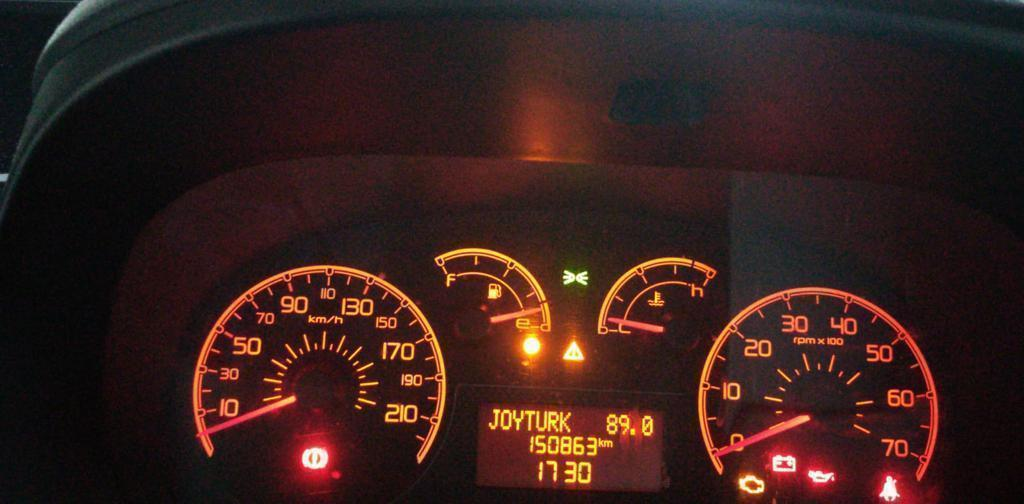,: (629, 427, 635, 436)
0: (577, 461, 592, 484), (640, 414, 654, 437), (547, 434, 559, 455)
1: (535, 459, 543, 482), (526, 434, 534, 454)
3: (562, 459, 576, 484), (586, 436, 597, 456)
5: (534, 433, 546, 454)
6: (572, 435, 584, 456)
7: (544, 459, 558, 483)
8: (605, 413, 618, 435), (559, 435, 571, 455)
9: (618, 413, 629, 435)
X: (558, 410, 572, 433), (511, 408, 524, 431), (523, 408, 535, 432), (535, 408, 547, 432), (487, 408, 500, 430), (500, 408, 512, 431), (547, 409, 559, 432), (597, 436, 604, 448), (604, 439, 613, 447)
odometer: (470, 396, 671, 494)
